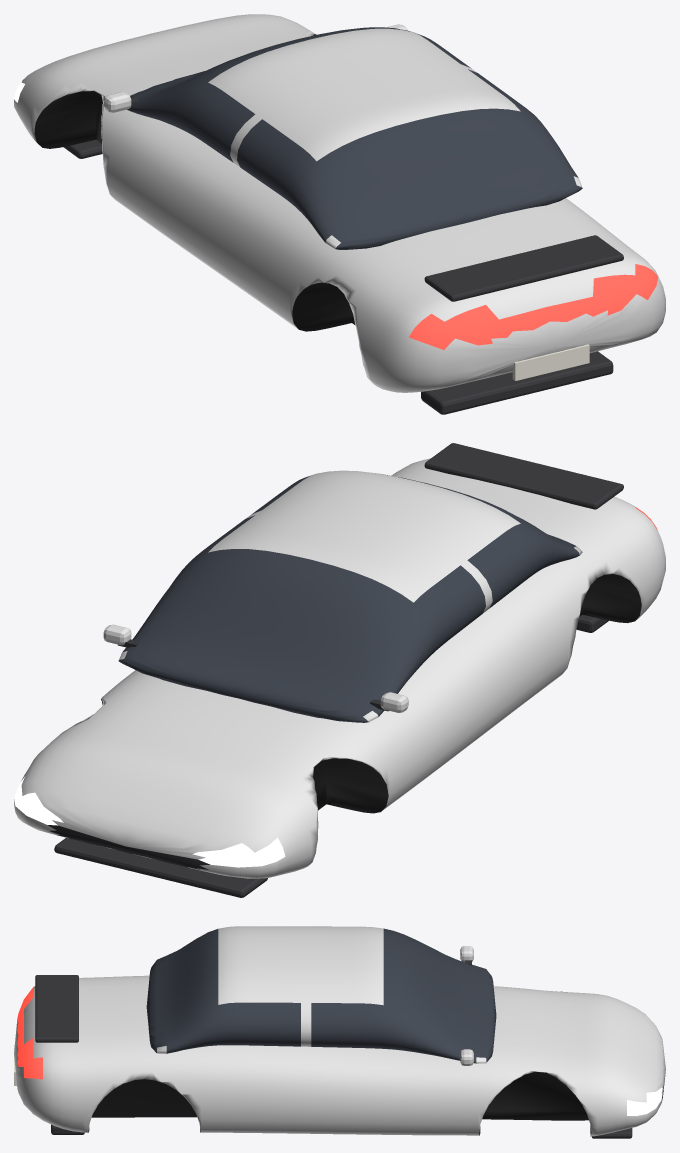
The model's file is marlin.glb.
The picture shows the model from 3 angles, top to bottom: view 1: azimuth 30°, elevation 25°; view 2: azimuth 150°, elevation 25°; view 3: azimuth 270°, elevation 25°; orthographic projection. The views are drawn at different scales.
Visible parts, largest first — view 1: marlin; view 2: marlin; view 3: marlin.
Boxes of the visible parts, bbox=[...] form: marlin: bbox=[14, 14, 665, 414]; marlin: bbox=[14, 443, 665, 897]; marlin: bbox=[14, 926, 665, 1138].
Size of the model in its own units: 1.94 by 1.24 by 4.77.
